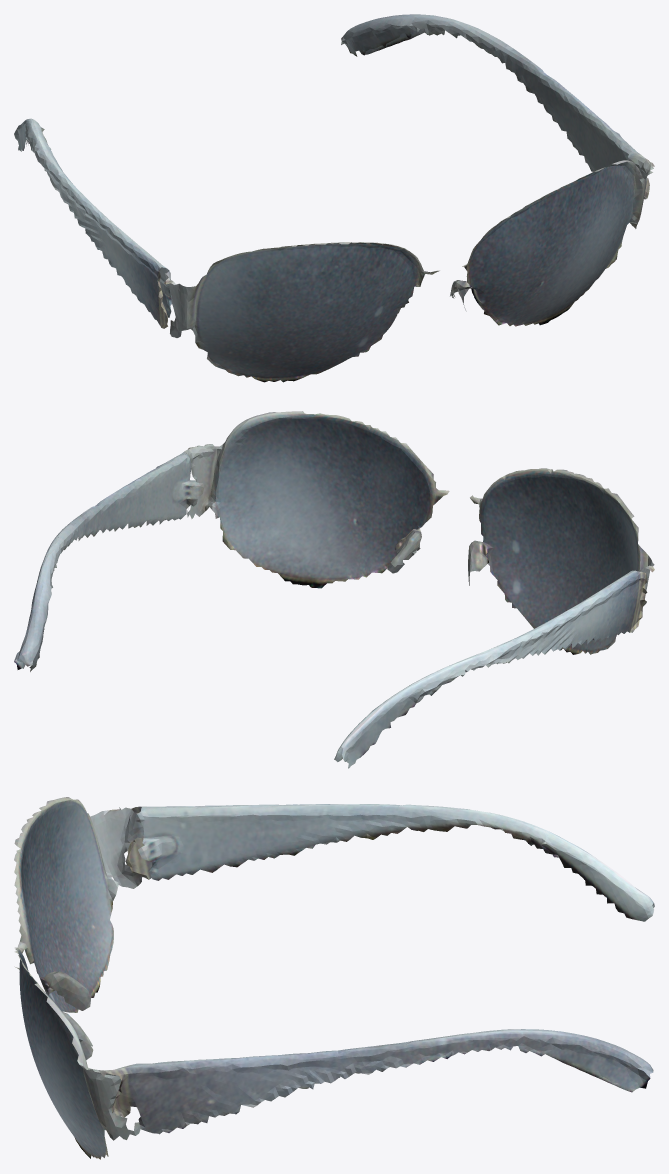
File: scan_align.obj
3 views of the same model, one above another, from view 1: azimuth 30°, elevation 25°; view 2: azimuth 150°, elevation 25°; view 3: azimuth 270°, elevation 25° (orthographic). The views are drawn at different scales.
Size of the model in its own units: 0.1447 by 0.0454 by 0.1444.
1 material, 1 textured.
